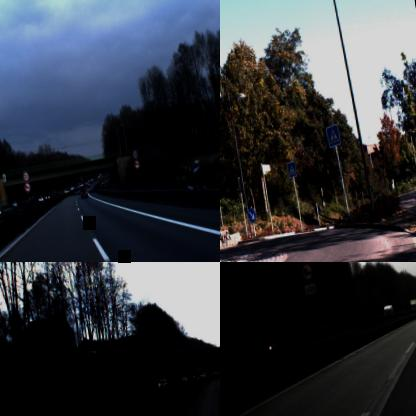keep right: (245, 206, 256, 223)
no overtaking: (298, 262, 315, 284), (22, 180, 32, 192), (132, 158, 140, 170)
speed limit 100: (126, 342, 146, 374)
speed limit 120: (131, 148, 139, 160), (22, 170, 30, 181)
